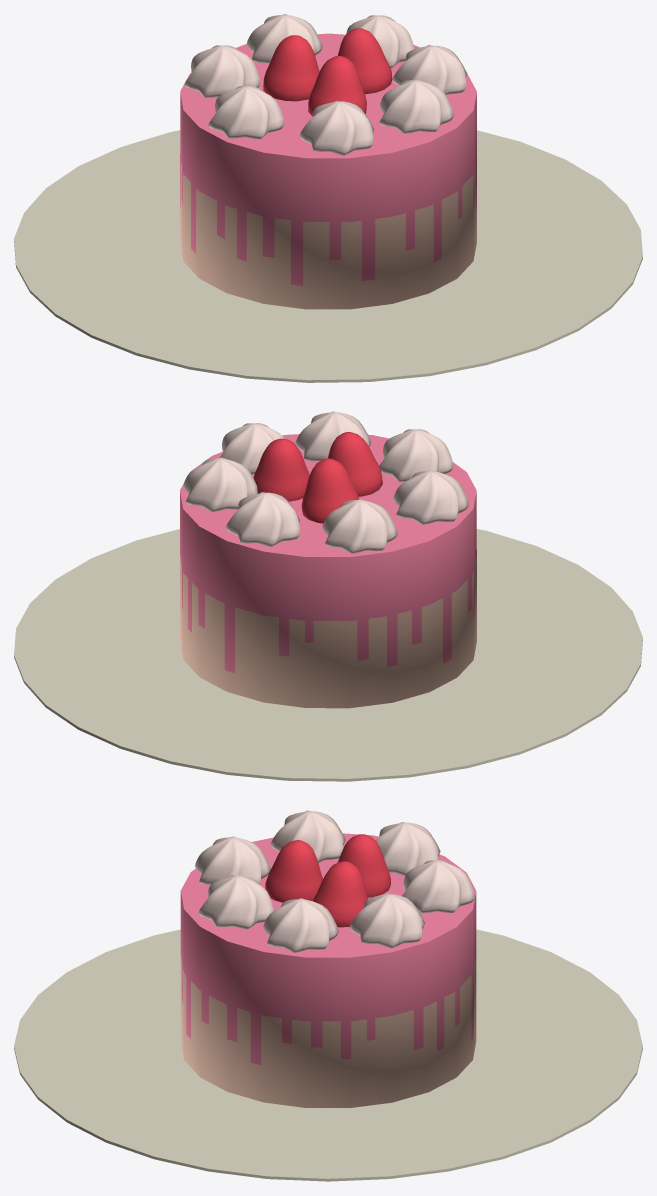
File: Cilek_2.fbx
The picture shows the model from 3 angles, top to bottom: view 1: azimuth 30°, elevation 25°; view 2: azimuth 150°, elevation 25°; view 3: azimuth 270°, elevation 25°; orthographic projection.
Parts seen in each view (by area): view 1: Cilek_Kek_2; view 2: Cilek_Kek_2; view 3: Cilek_Kek_2.
Part boxes in pixels (bbox=[...]): Cilek_Kek_2: bbox=[14, 14, 642, 382]; Cilek_Kek_2: bbox=[14, 411, 642, 781]; Cilek_Kek_2: bbox=[14, 810, 642, 1181].
Bounding box in the file's own units: 300 × 108 × 300.
